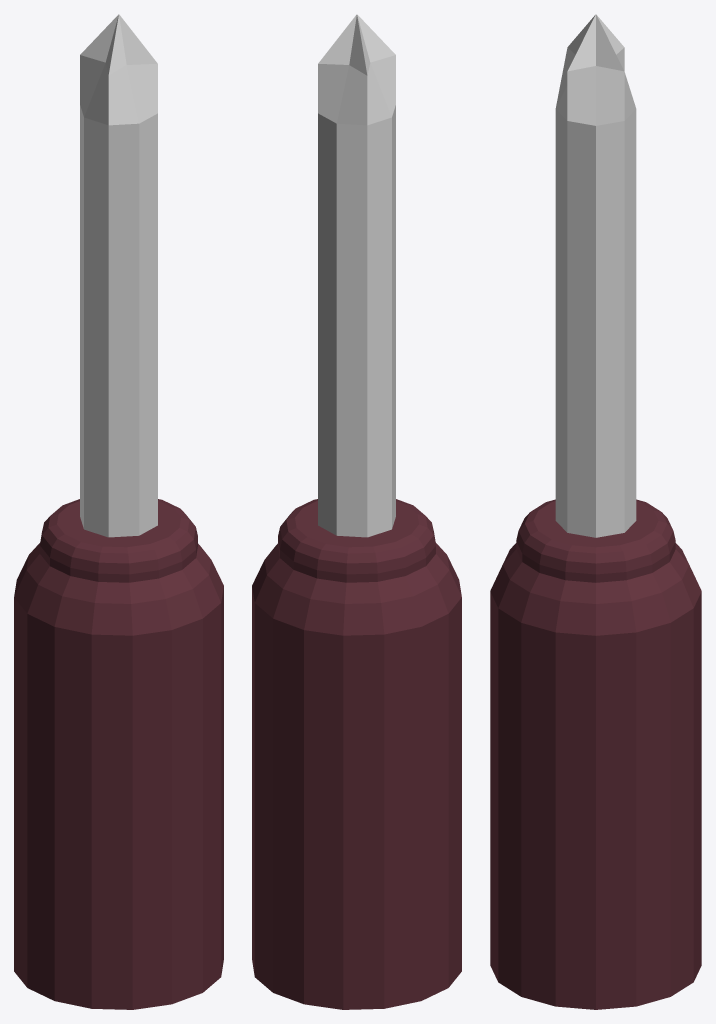
The model's file is obeng.fbx.
The picture shows the model from 3 angles, left to right: view 1: azimuth 30°, elevation 25°; view 2: azimuth 150°, elevation 25°; view 3: azimuth 270°, elevation 25°; orthographic projection.
Visible parts, largest first — view 1: Cylinder; view 2: Cylinder; view 3: Cylinder.
Part boxes in pixels (bbox=[...]): Cylinder: bbox=[14, 14, 223, 1009]; Cylinder: bbox=[252, 14, 461, 1009]; Cylinder: bbox=[490, 14, 701, 1009].
Size of the model in its own units: 0.2304 by 1.14 by 0.2304.
